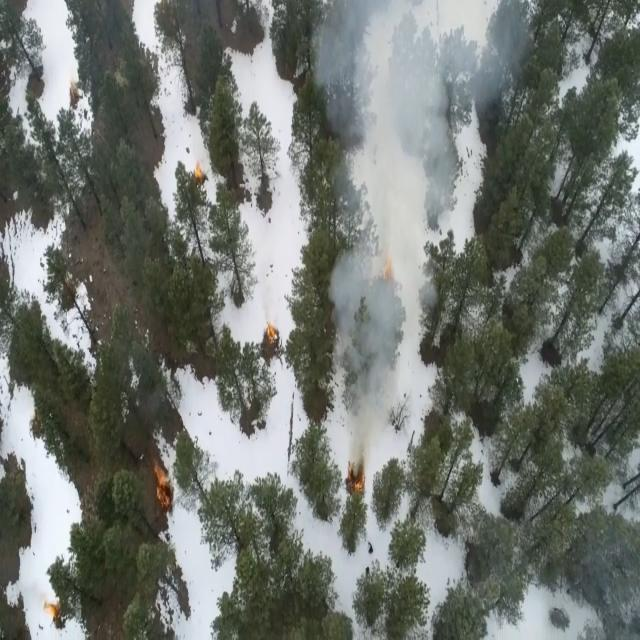Fire: (149, 461, 183, 517), (376, 239, 401, 280), (42, 592, 65, 636), (344, 458, 369, 496), (190, 156, 210, 191), (264, 324, 288, 349)
Smoke: (304, 2, 526, 450)
